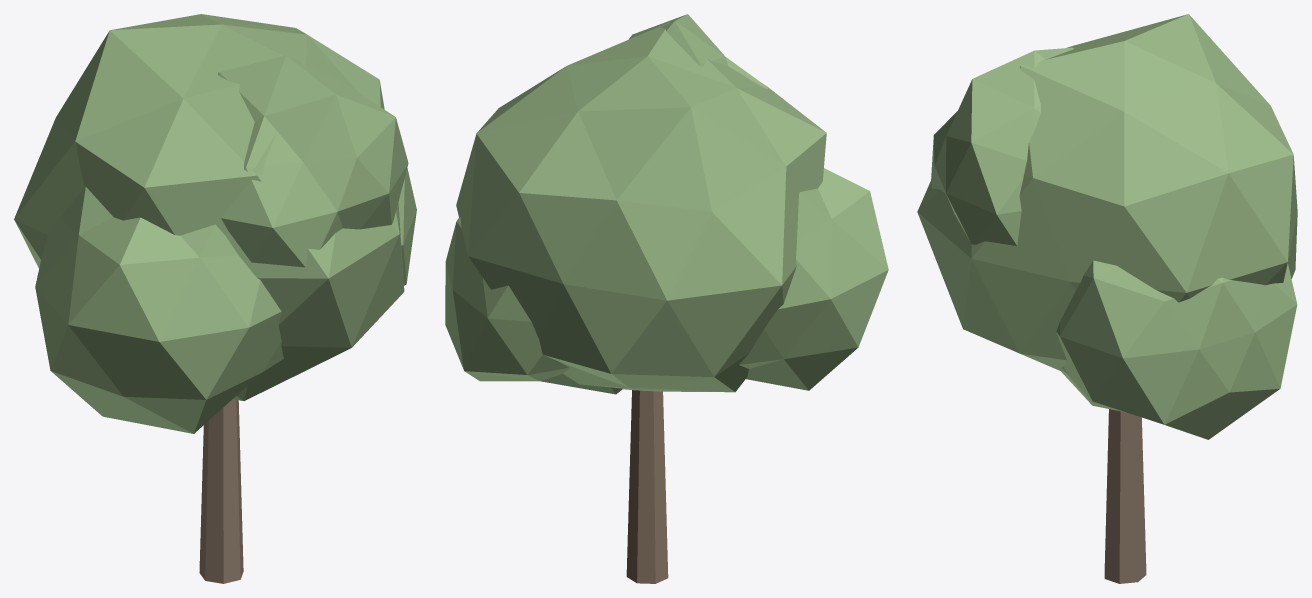
The model's file is tree.glb.
3 renders of one model, left to right at view 1: azimuth 30°, elevation 25°; view 2: azimuth 150°, elevation 25°; view 3: azimuth 270°, elevation 25°, orthographic. The views are drawn at different scales.
Parts seen in each view (by area): view 1: tree; view 2: tree; view 3: tree.
Part boxes in pixels (<box>): tree: <box>14,14,416,583</box>; tree: <box>445,14,888,583</box>; tree: <box>917,14,1297,583</box>.
Bounding box in the file's own units: 4.46 × 5.88 × 3.8.
